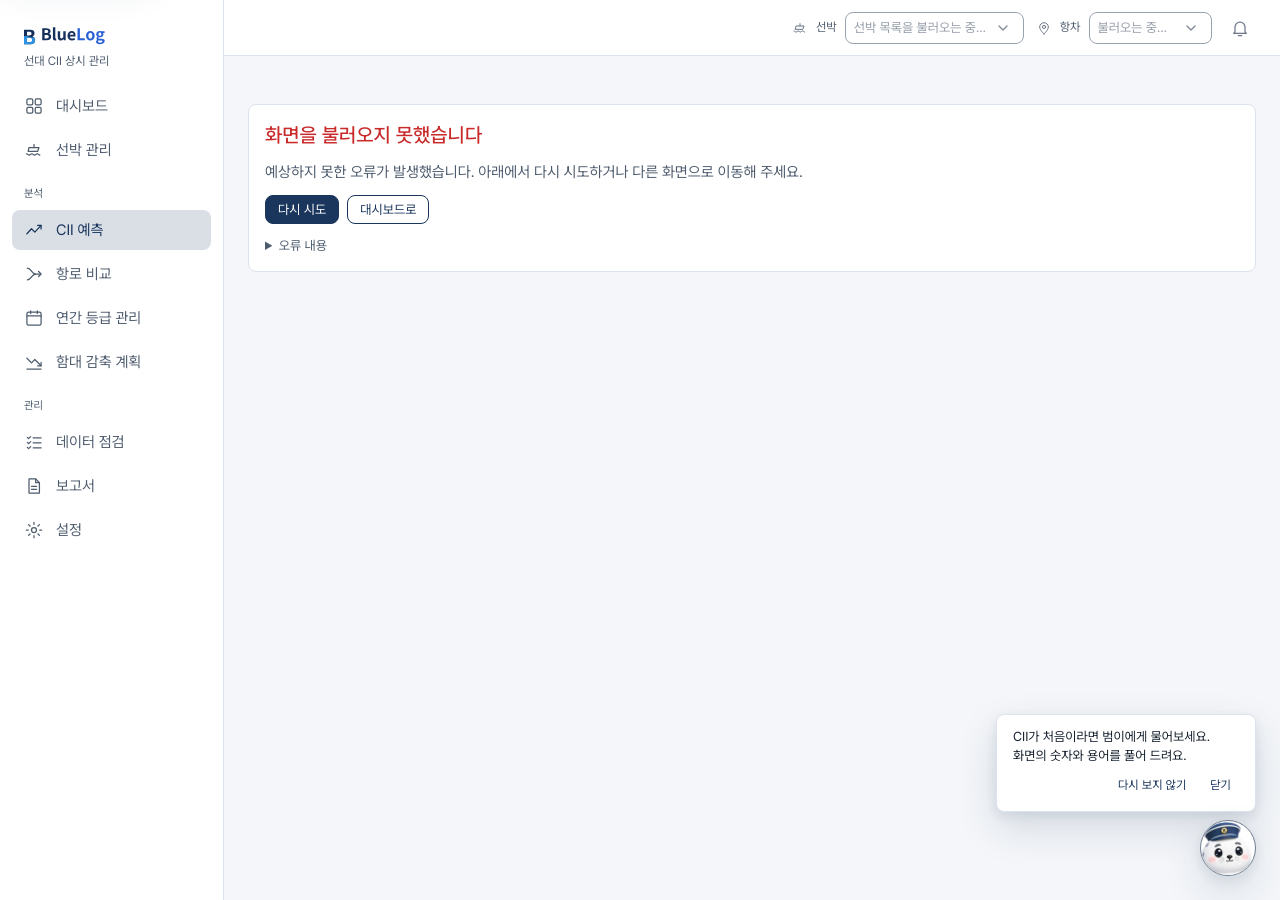
it: 화면이 깨져도 셸은 남는다 (#823) › 다른 화면으로 이동하면 오류 화면이 사라진다 — 경계가 경로로 리셋된다
Check: the heading "화면을 불러오지 못했습니다" is shown, box [265, 121, 482, 149]
Click the link "선박 관리" at (68, 150), box [24, 140, 112, 160]
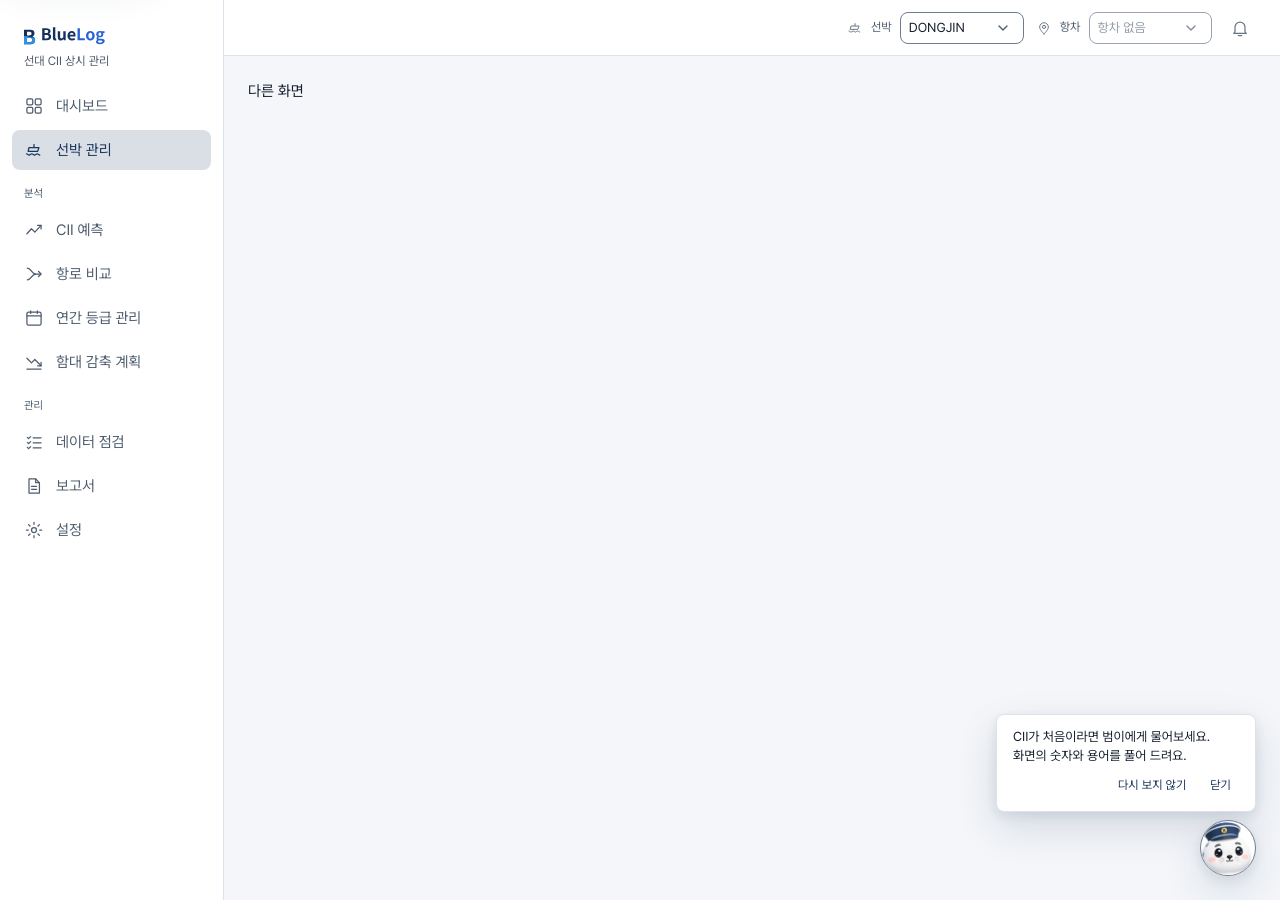
Check: the text "다른 화면" is shown, box [248, 82, 304, 100]
Check: the heading "화면을 불러오지 못했습니다" is gone
